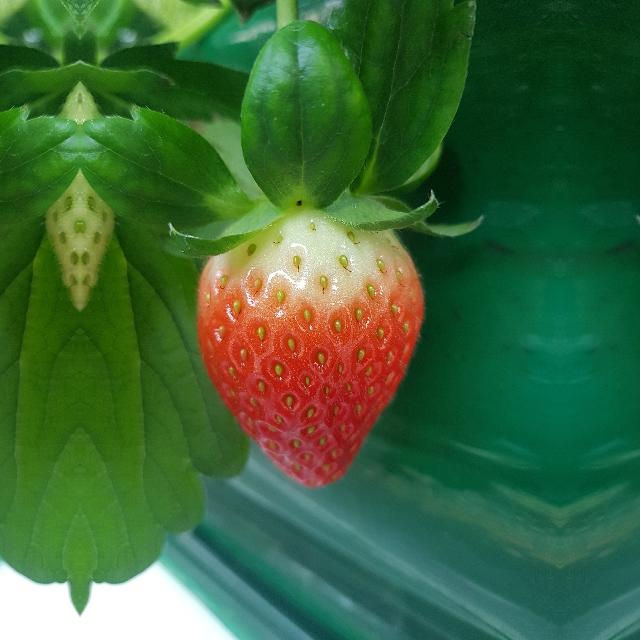Health_75: (194, 201, 424, 487)
